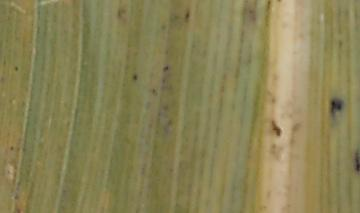tarspot: (327, 97, 343, 116), (269, 117, 282, 139), (352, 145, 360, 175), (116, 6, 127, 20), (247, 7, 257, 22), (148, 86, 159, 97), (184, 7, 191, 23), (11, 202, 21, 213), (164, 117, 173, 126), (160, 65, 171, 72), (12, 192, 20, 201), (132, 73, 139, 81), (13, 64, 19, 73), (9, 144, 15, 153), (275, 1, 281, 4)
